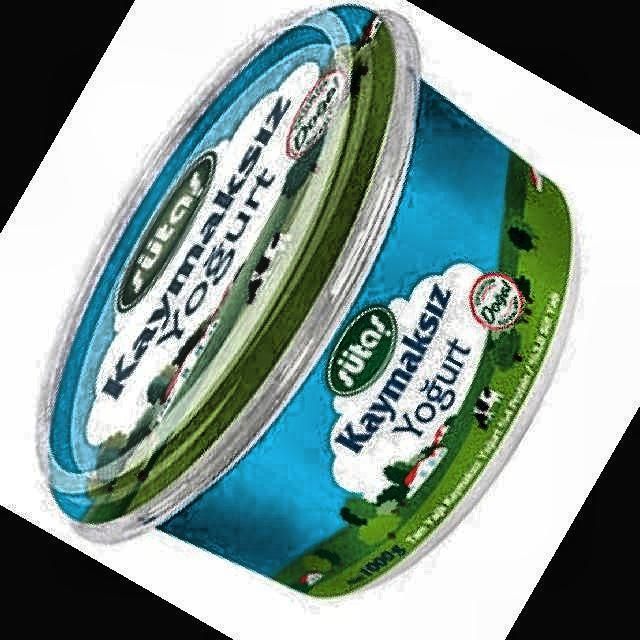plastic: (41, 5, 572, 596)
